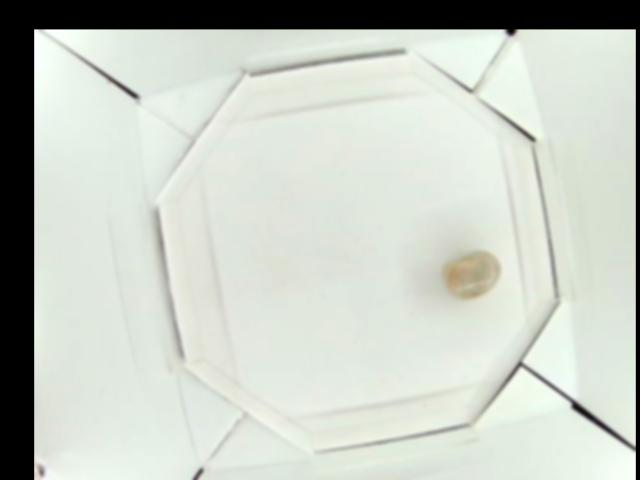Pebble: (444, 251, 502, 298)
